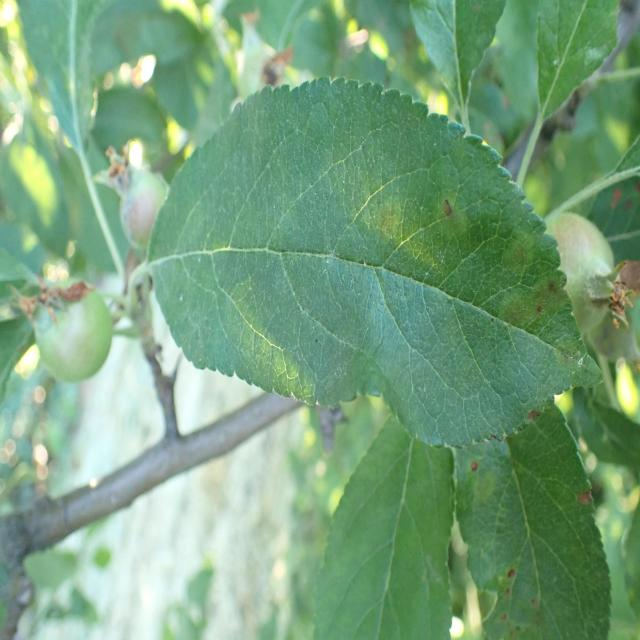scab: (183, 108, 580, 431)
